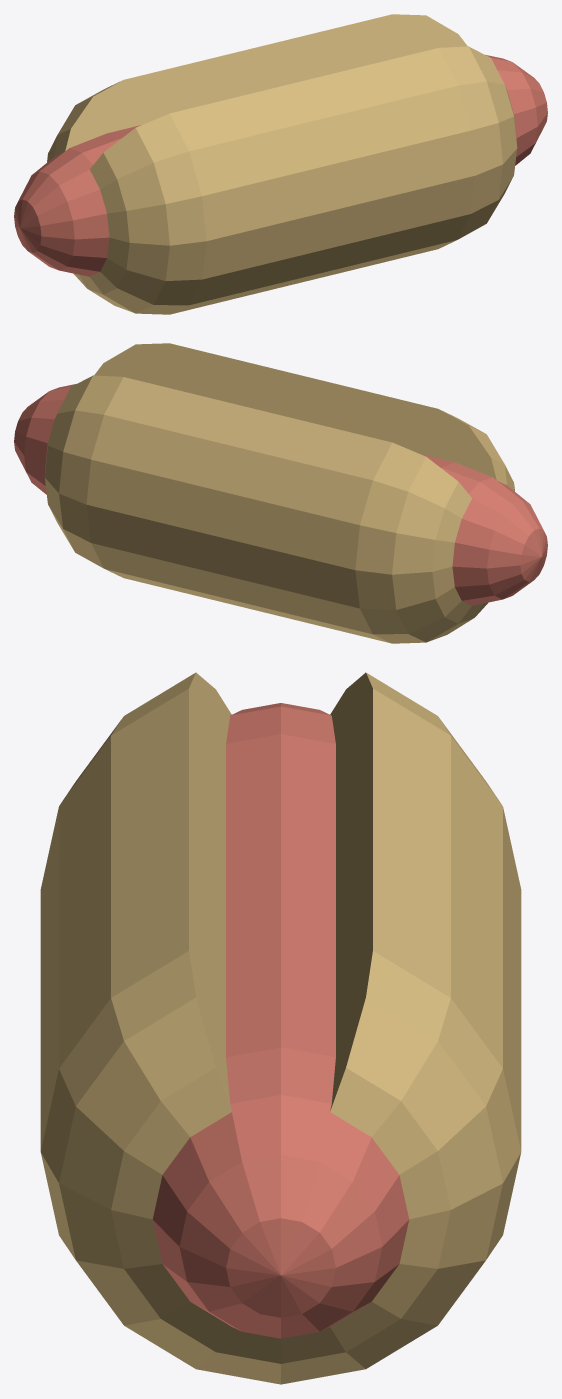
File: hotdog.dae
The picture shows the model from 3 angles, top to bottom: view 1: azimuth 30°, elevation 25°; view 2: azimuth 150°, elevation 25°; view 3: azimuth 270°, elevation 25°; orthographic projection. The views are drawn at different scales.
Parts seen in each view (by area): view 1: Hotdog; view 2: Hotdog; view 3: Hotdog.
Part boxes in pixels (x1,y1,x2,y2): Hotdog: [14, 14, 547, 314]; Hotdog: [14, 343, 547, 643]; Hotdog: [40, 672, 521, 1384].
Bounding box in the file's own units: 17.56 × 7.01 × 6.74.
